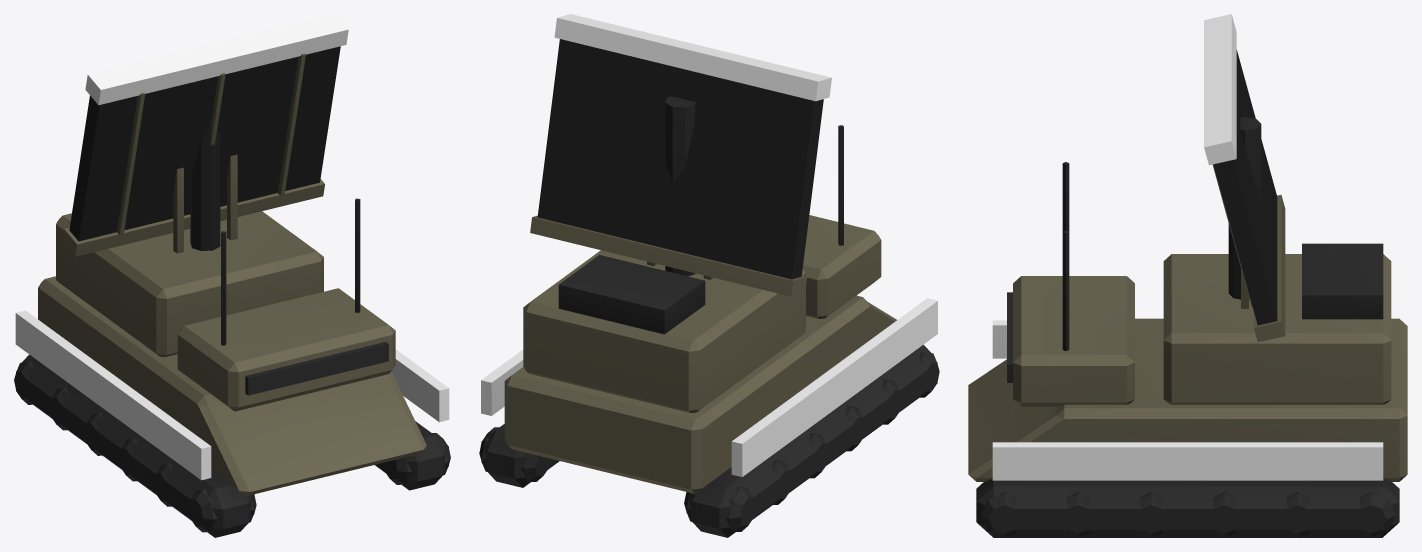
Rendered from ru-pole-21.glb.
The picture shows the model from 3 angles, left to right: view 1: azimuth 30°, elevation 25°; view 2: azimuth 150°, elevation 25°; view 3: azimuth 270°, elevation 25°; orthographic projection. The views are drawn at different scales.
Visible parts, largest first — view 1: ru-pole-21; view 2: ru-pole-21; view 3: ru-pole-21.
Boxes of the visible parts, box(x1,y1,x2,y2) form: ru-pole-21: box(14, 14, 450, 537); ru-pole-21: box(479, 14, 939, 537); ru-pole-21: box(968, 14, 1407, 537).
Size of the model in its own units: 0.74 by 1.1 by 1.08.
